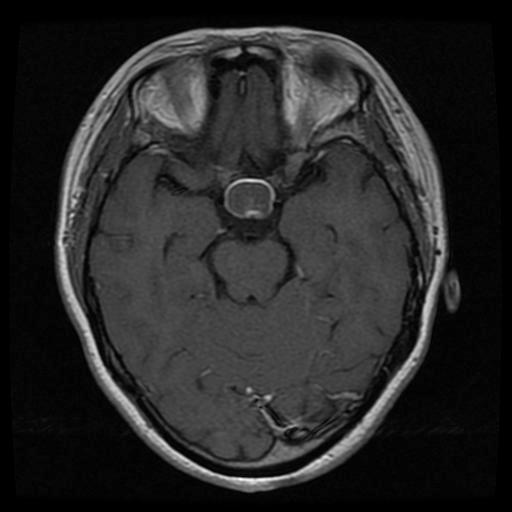Tumour-Pituitary: (224, 180, 279, 222)
